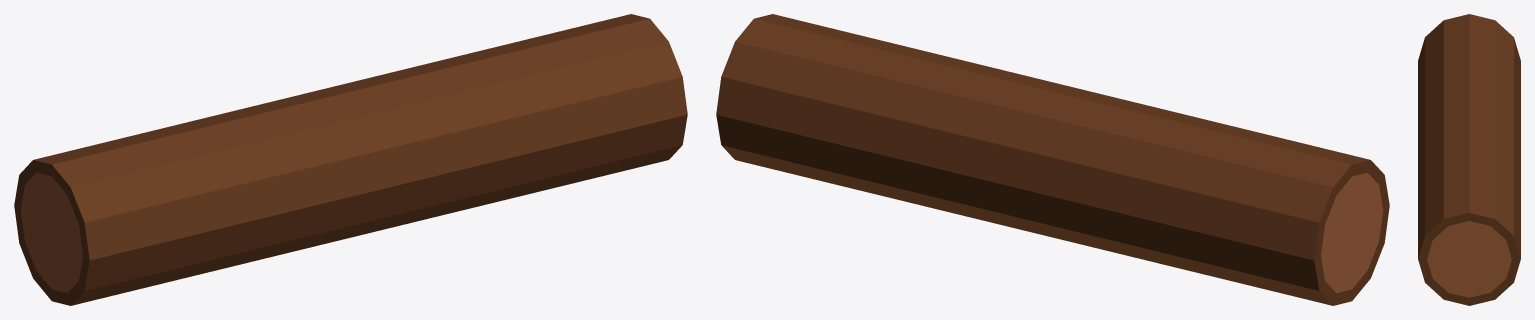
Rendered from tronco.fbx.
The picture shows the model from 3 angles, left to right: view 1: azimuth 30°, elevation 25°; view 2: azimuth 150°, elevation 25°; view 3: azimuth 270°, elevation 25°; orthographic projection. The views are drawn at different scales.
Parts seen in each view (by area): view 1: Cylinder; view 2: Cylinder; view 3: Cylinder.
Part boxes in pixels (bbox=[...]): Cylinder: bbox=[14, 14, 687, 305]; Cylinder: bbox=[716, 14, 1389, 305]; Cylinder: bbox=[1418, 14, 1520, 305].
Size of the model in its own units: 915 by 200 by 200.
